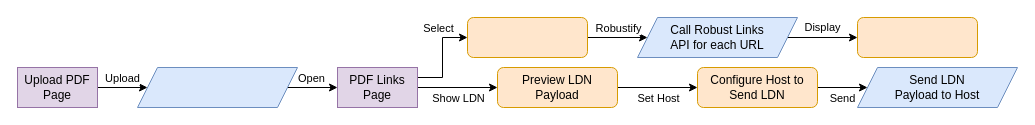
This 1035x125 diagram has some shape labels left out. The shapes that lost their labels are listed below. From the top down, each one's centre as x and y in pixels, then its label:
the point at 527,37: Select URLs to Robustify
the point at 917,37: Show Robustification Status of each URL
the point at 217,87: Extract URI References
